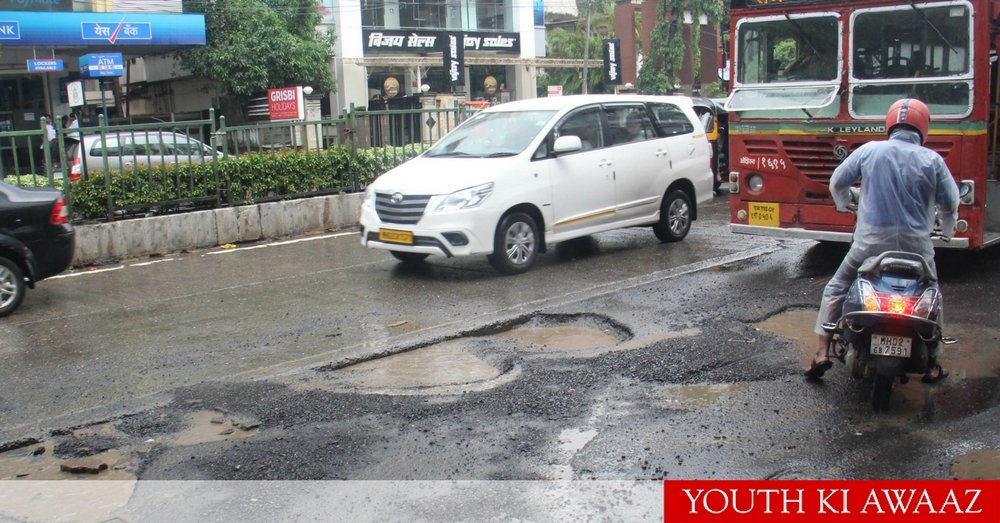pothole: (309, 260, 634, 405)
